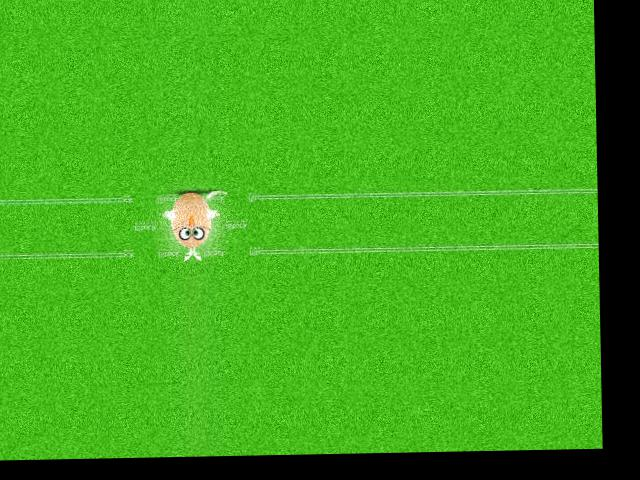egg: (171, 191, 212, 247)
